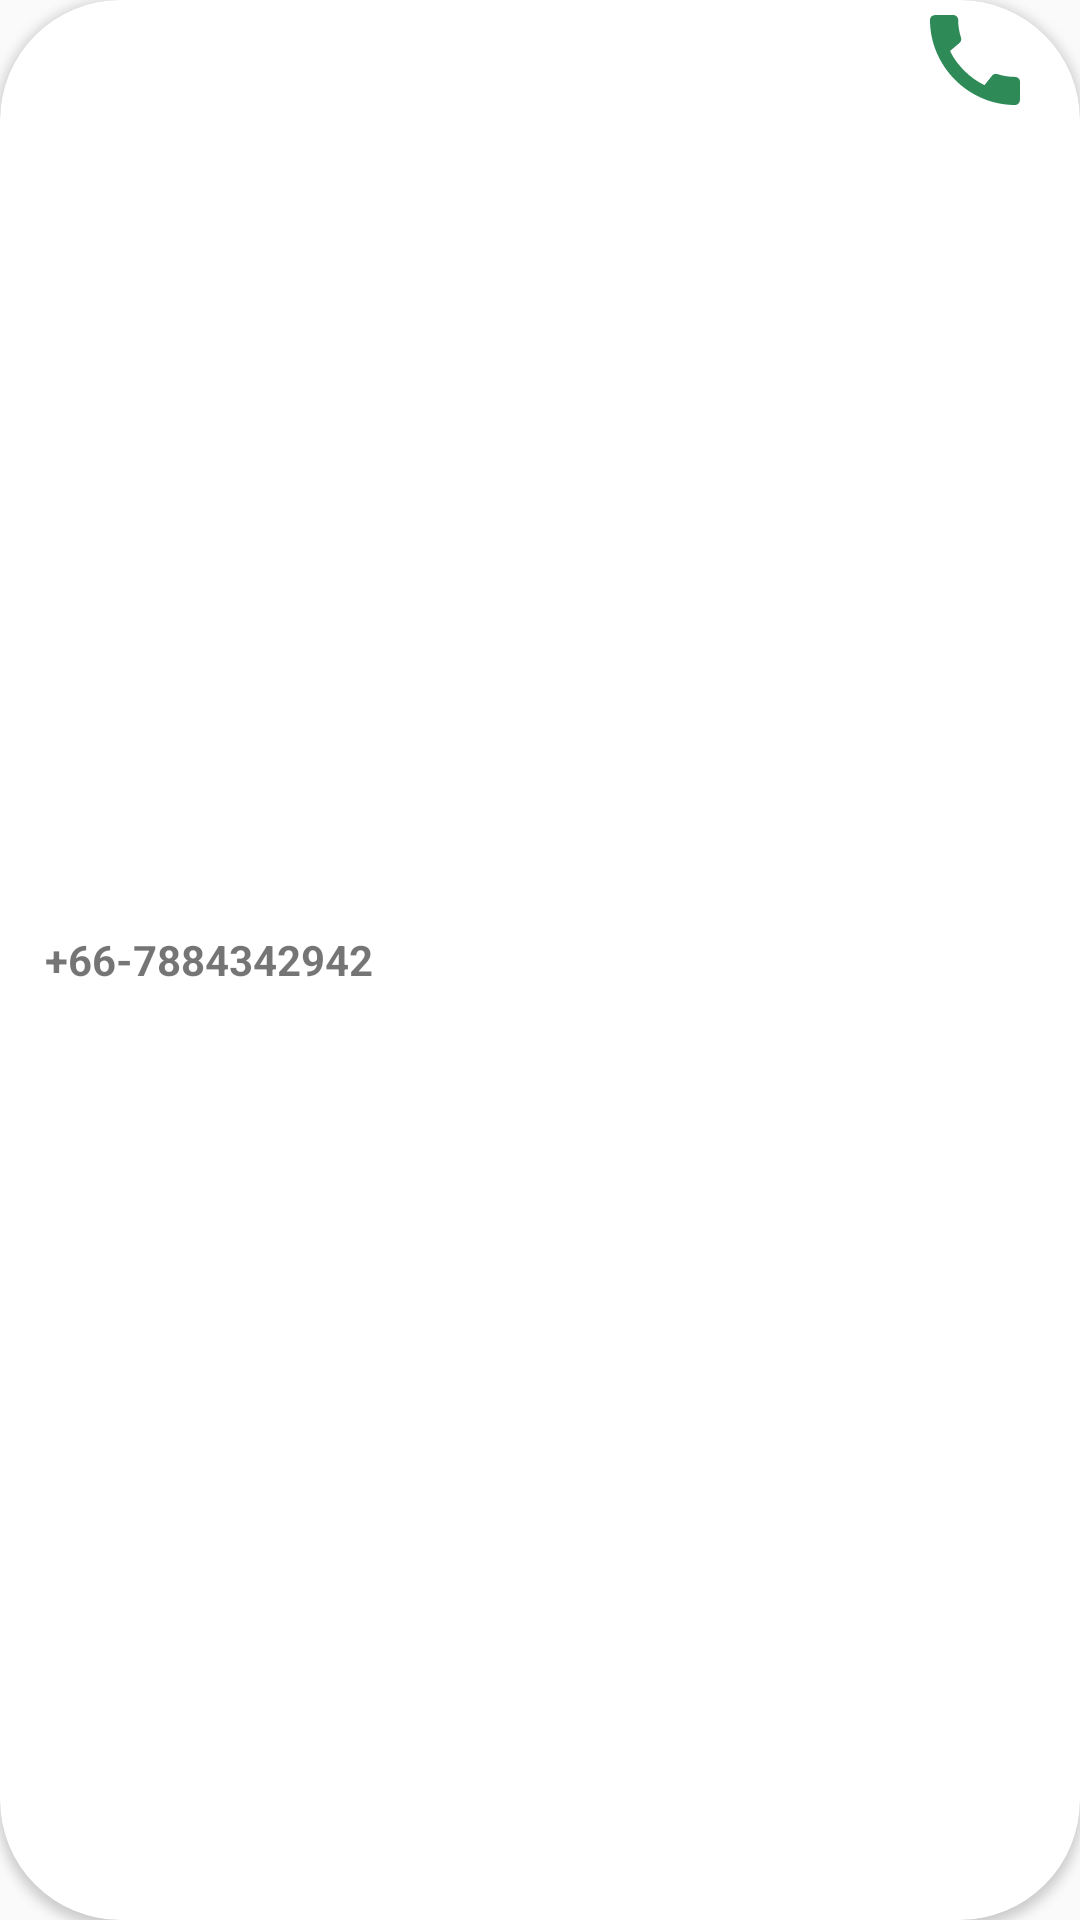

Named icons in this screenshot (1080w x 1920h) and their centers, point (x, y):
call: point (975, 60)
